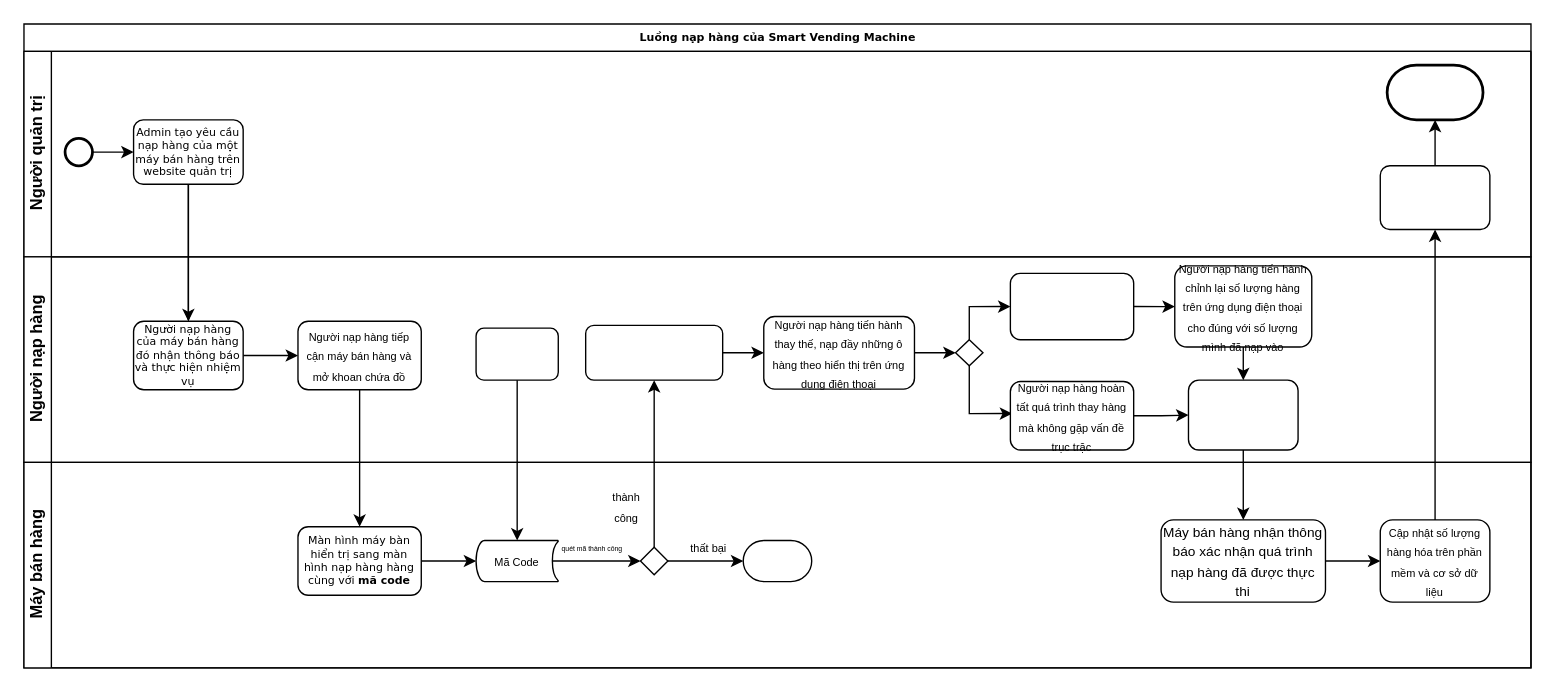
Some shapes in this 1555 by 692 pixel diagram are drawn without their labels. Here are the shapes that lost their labels. From the top down, the centre of each, then its label:
At (x=1434, y=92): "Hoàn tất quá trình".
At (x=1434, y=196): "Gửi thông báo về phía người quản trị yêu cầu nạp hàng đã được xử lý".
At (x=1071, y=306): "Người nạp hàng không hoàn tất quá trình nạp hàng vì lý do không đủ hàng hóa".
At (x=516, y=353): "Người nạp hàng xác nhận mã code".
At (x=653, y=352): "Ứng dụng trên điện thoại của người nạp hàng hiển thị những sản phẩm cần thay thế".
At (x=1242, y=414): "Người nạp hàng tiến hành bấm nút xác nhận trên ứng dụng điện thoại".
At (x=777, y=560): "Hủy quá trình".
